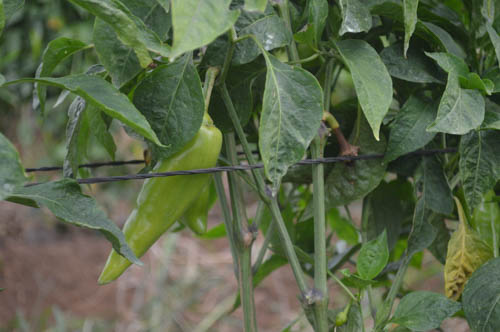ChiliPepper: (96, 126, 225, 278)
